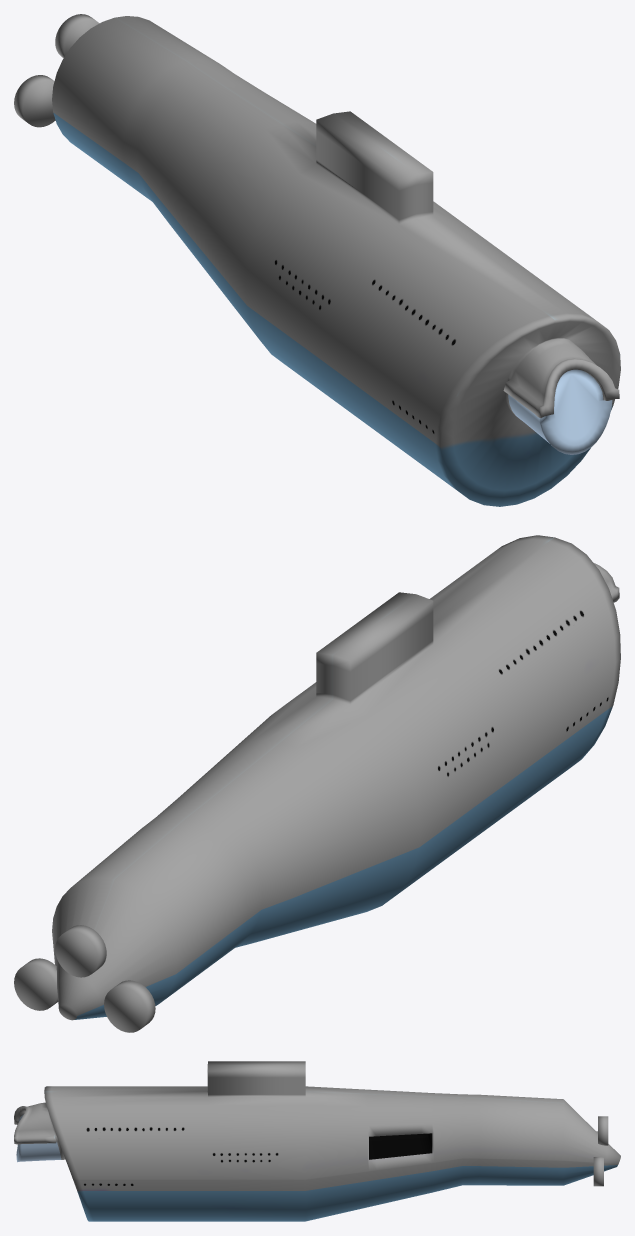
File: Submarino.fbx
The picture shows the model from 3 angles, top to bottom: view 1: azimuth 30°, elevation 25°; view 2: azimuth 150°, elevation 25°; view 3: azimuth 270°, elevation 25°; orthographic projection. The views are drawn at different scales.
Visible parts, largest first — view 1: Cylinder; view 2: Cylinder; view 3: Cylinder.
Part boxes in pixels (x1,y1,x2,y2): Cylinder: (14,14,620,506); Cylinder: (14,535,620,1032); Cylinder: (14,1061,620,1221).
Size of the model in its own units: 1503 by 2098 by 7626.
Materials: 1 (1 with a texture image).
